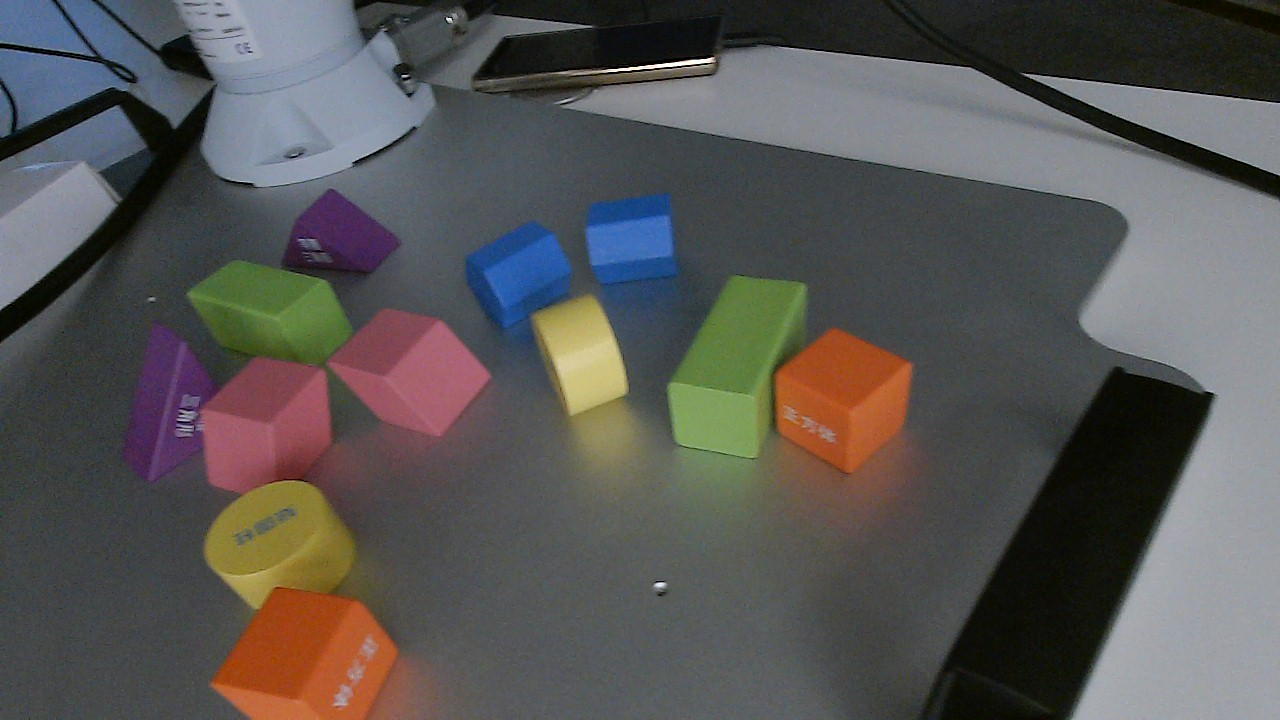circle: (192, 477, 360, 614), (532, 290, 633, 422)
diamond: (331, 304, 493, 442), (198, 356, 333, 495)
hexagon: (460, 219, 575, 332), (583, 191, 673, 284)
rectangle: (666, 271, 811, 461), (187, 259, 353, 368)
square: (211, 584, 398, 720), (775, 327, 911, 476)
triangle: (127, 321, 215, 483), (279, 184, 404, 279)
